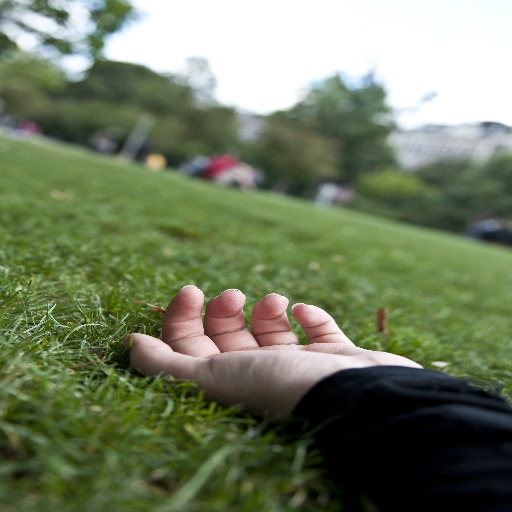hand: (129, 297, 424, 443)
